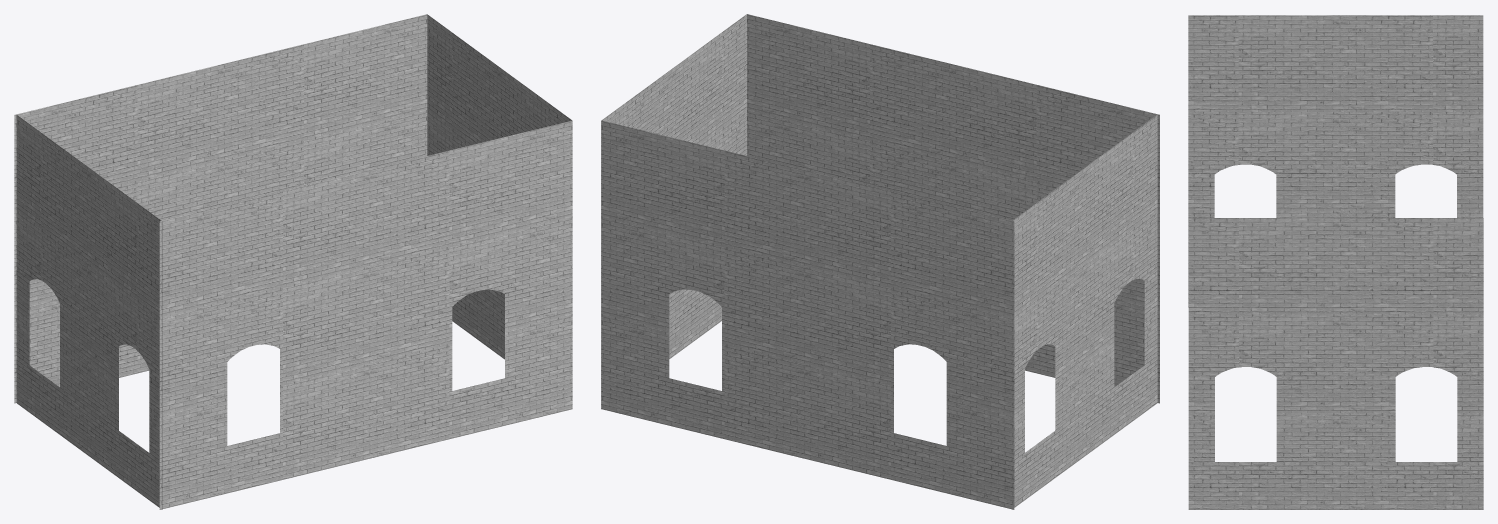
File: throne_walls.obj
3 views of the same model, side by side, from view 1: azimuth 30°, elevation 25°; view 2: azimuth 150°, elevation 25°; view 3: azimuth 270°, elevation 25° (orthographic).
Parts seen in each view (by area): view 1: Plane_Plane.003; view 2: Plane_Plane.003; view 3: Plane_Plane.003.
Boxes of the visible parts, <box> form: Plane_Plane.003: <box>14,14,572,509</box>; Plane_Plane.003: <box>601,14,1159,509</box>; Plane_Plane.003: <box>1188,15,1483,509</box>.
Size of the model in its own units: 68.87 by 46.06 by 42.14.
2 materials, 2 textured.
